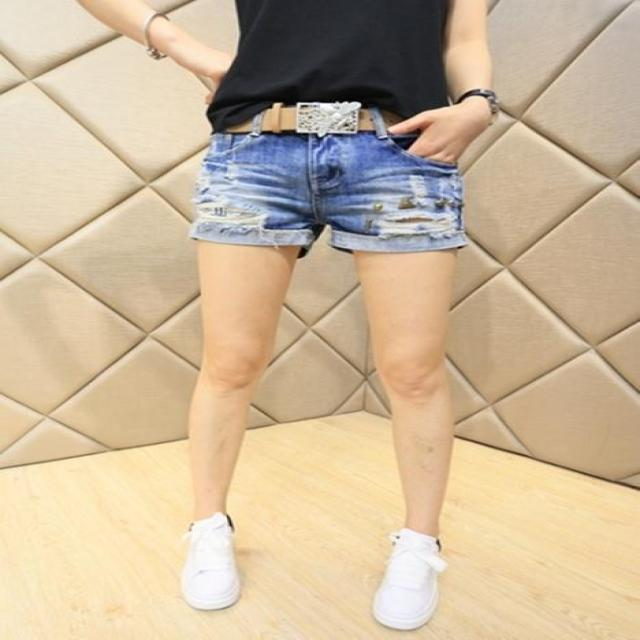short sleeve top: (215, 1, 455, 131)
shorts: (193, 107, 464, 246)
